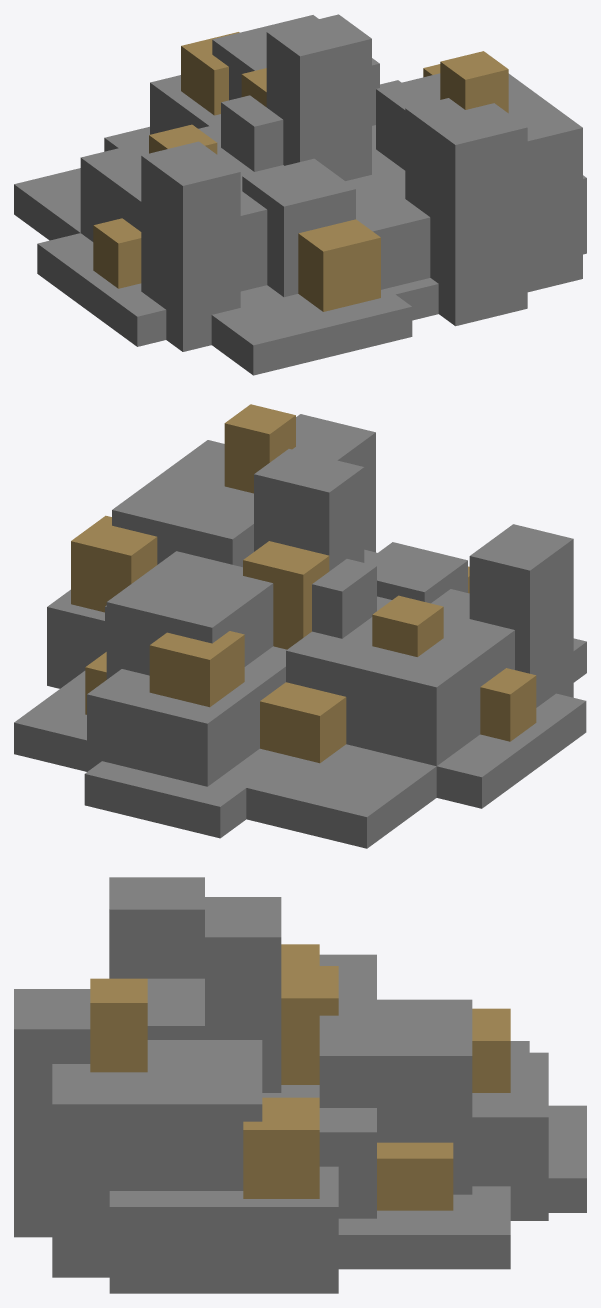
File: IronNode.fbx
3 renders of one model, top to bottom at view 1: azimuth 30°, elevation 25°; view 2: azimuth 150°, elevation 25°; view 3: azimuth 270°, elevation 25°, orthographic. The views are drawn at different scales.
Parts seen in each view (by area): view 1: Iron Node; view 2: Iron Node; view 3: Iron Node.
Part boxes in pixels (bbox=[...]): Iron Node: bbox=[14, 14, 586, 375]; Iron Node: bbox=[14, 404, 586, 848]; Iron Node: bbox=[14, 877, 586, 1293].
Bounding box in the file's own units: 0.7001 × 0.7001 × 0.35.
1 material, 1 textured.
